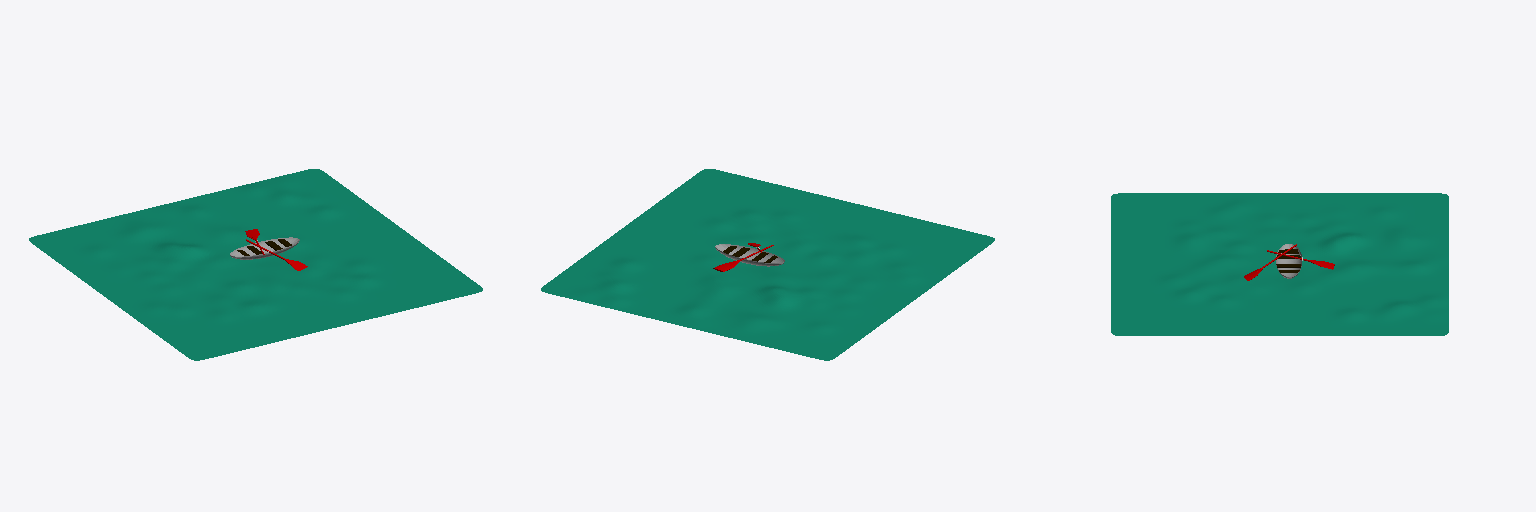
Rendered from rowboat.obj.
3 views of the same model, side by side, from view 1: azimuth 30°, elevation 25°; view 2: azimuth 150°, elevation 25°; view 3: azimuth 270°, elevation 25° (orthographic).
Parts seen in each view (by area): view 1: Plane, Sphere; view 2: Plane, Sphere; view 3: Plane, Sphere.
Boxes of the visible parts, x1,y1,x2,y2 form: Plane: [29, 169, 482, 360]; Sphere: [230, 237, 299, 259]; Plane: [541, 169, 994, 360]; Sphere: [715, 244, 784, 266]; Plane: [1111, 193, 1448, 335]; Sphere: [1276, 244, 1301, 278].
Size of the model in its own units: 31.65 by 2.29 by 31.65.